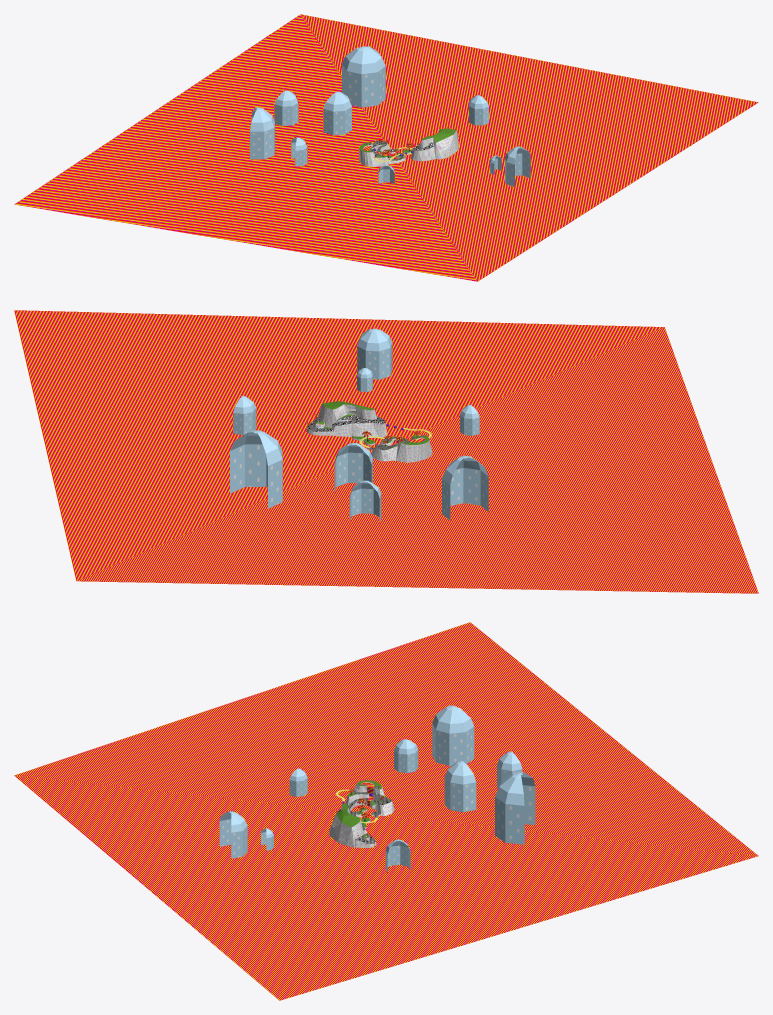
The picture shows the model from 3 angles, top to bottom: view 1: azimuth 30°, elevation 25°; view 2: azimuth 150°, elevation 25°; view 3: azimuth 270°, elevation 25°; orthographic projection. The views are drawn at different scales.
Parts seen in each view (by area): view 1: o, w, x, y, h, z; view 2: o, w, h, y, x, z, q; view 3: o, w, x, y, h, z.
Boxes of the visible parts, left/top/right/bottom form: o: left=14, top=14, right=758, bottom=281; w: left=250, top=65, right=530, bottom=186; x: left=250, top=46, right=530, bottom=164; y: left=291, top=106, right=501, bottom=183; h: left=359, top=130, right=458, bottom=166; z: left=291, top=91, right=501, bottom=173; o: left=14, top=310, right=758, bottom=593; w: left=230, top=342, right=488, bottom=522; h: left=307, top=404, right=432, bottom=462; y: left=233, top=375, right=479, bottom=492; x: left=230, top=328, right=488, bottom=498; z: left=233, top=368, right=479, bottom=463; q: left=308, top=411, right=423, bottom=449; o: left=14, top=622, right=758, bottom=1000; w: left=219, top=724, right=535, bottom=858; x: left=219, top=705, right=535, bottom=832; y: left=261, top=749, right=476, bottom=872; h: left=329, top=782, right=394, bottom=847; z: left=261, top=739, right=475, bottom=853.
Bounding box in the file's own units: 704688 × 138096 × 585825.
Materials: 55 (55 with a texture image).
